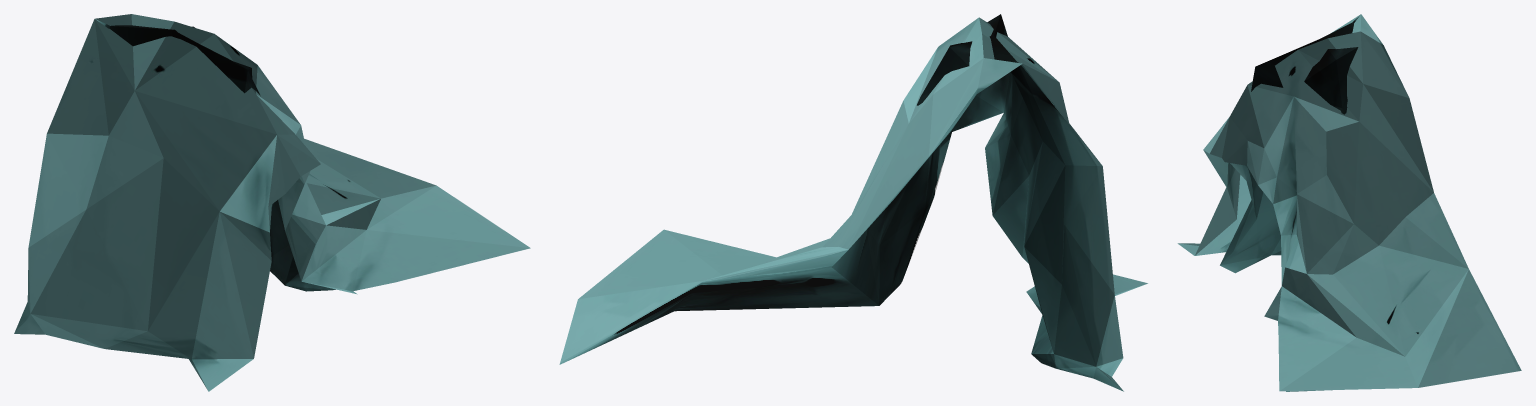
File: blanket_05.glb
3 renders of one model, left to right at view 1: azimuth 30°, elevation 25°; view 2: azimuth 150°, elevation 25°; view 3: azimuth 270°, elevation 25°, orthographic. The views are drawn at different scales.
Parts seen in each view (by area): view 1: Blanket.small.001; view 2: Blanket.small.001; view 3: Blanket.small.001.
Part boxes in pixels (x1,y1,x2,y2): Blanket.small.001: (14, 14, 530, 391); Blanket.small.001: (559, 14, 1147, 391); Blanket.small.001: (1177, 14, 1521, 391).
Bounding box in the file's own units: 2.4 × 1.41 × 1.9.
Materials: 1 (1 with a texture image).
